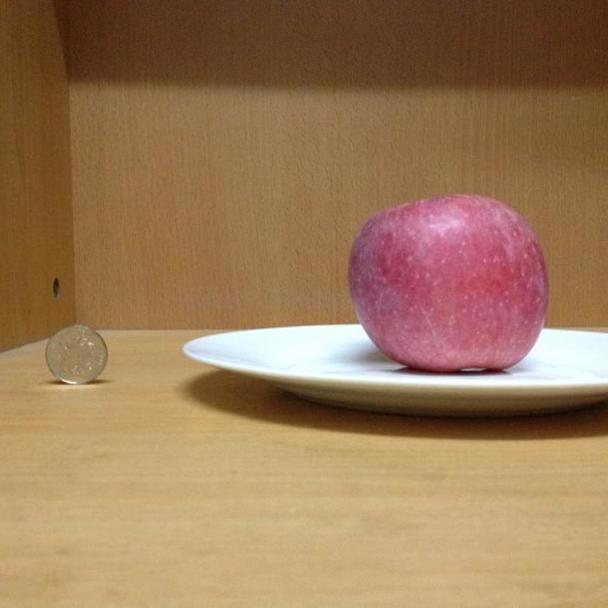apple: (347, 192, 555, 374)
